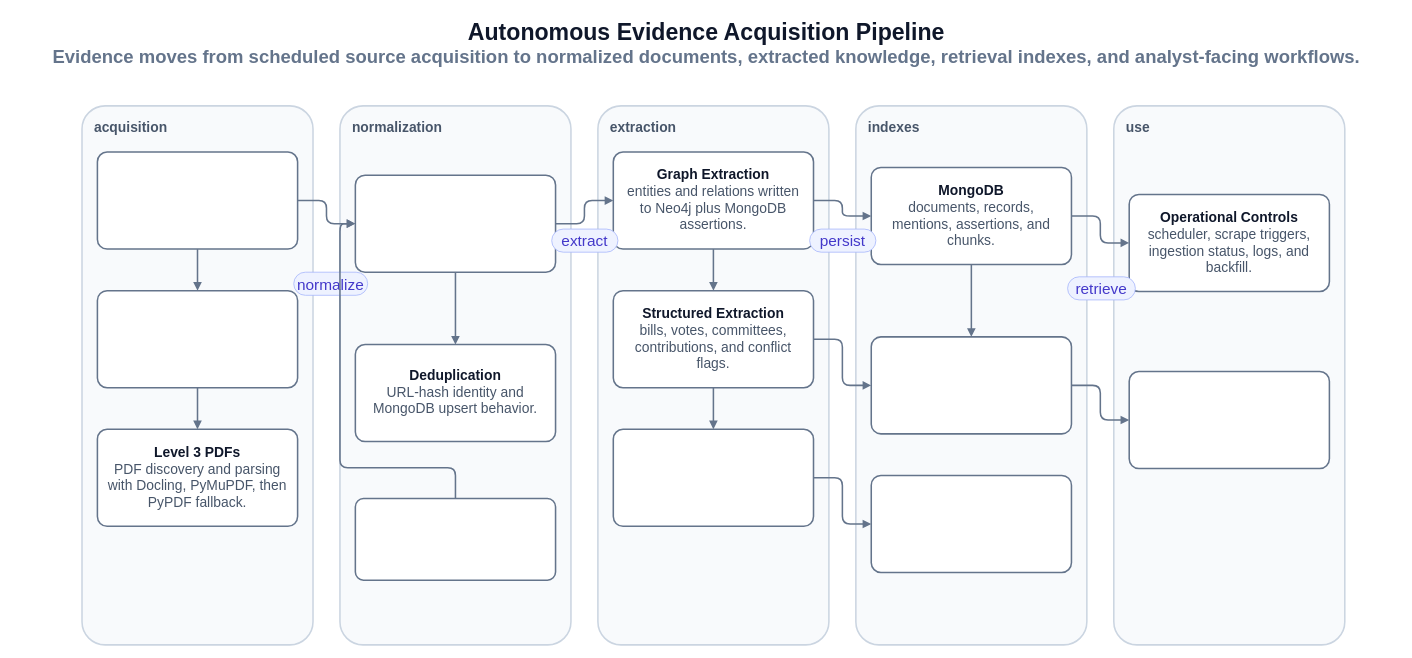
Image size: 1412x658. Some labels were removed from this diagram. The shapes that lost their labels are listed below. From the top down, each one's centre as x and y in pixels, then its label:
(197,200): Level 1 RSS curated feeds from sources.json and source registry.
(455,223): Document Records title, content, URL, source, date, topic, and scraper metadata.
(197,339): Level 2 Topics Google News RSS search over configured topic groups.
(971,385): Neo4j canonical nodes and typed geopolitical relationships.
(1229,419): Analyst Workflows chat, graph explorer, documents, insights, and cited answers.
(713,477): Chunking paragraph-aware chunks enriched with source and entity context.
(455,539): Admin Import import scraped JSON and direct URL ingestion from the admin UI.
(971,523): ZVec embedded chunk vectors for semantic retrieval.
